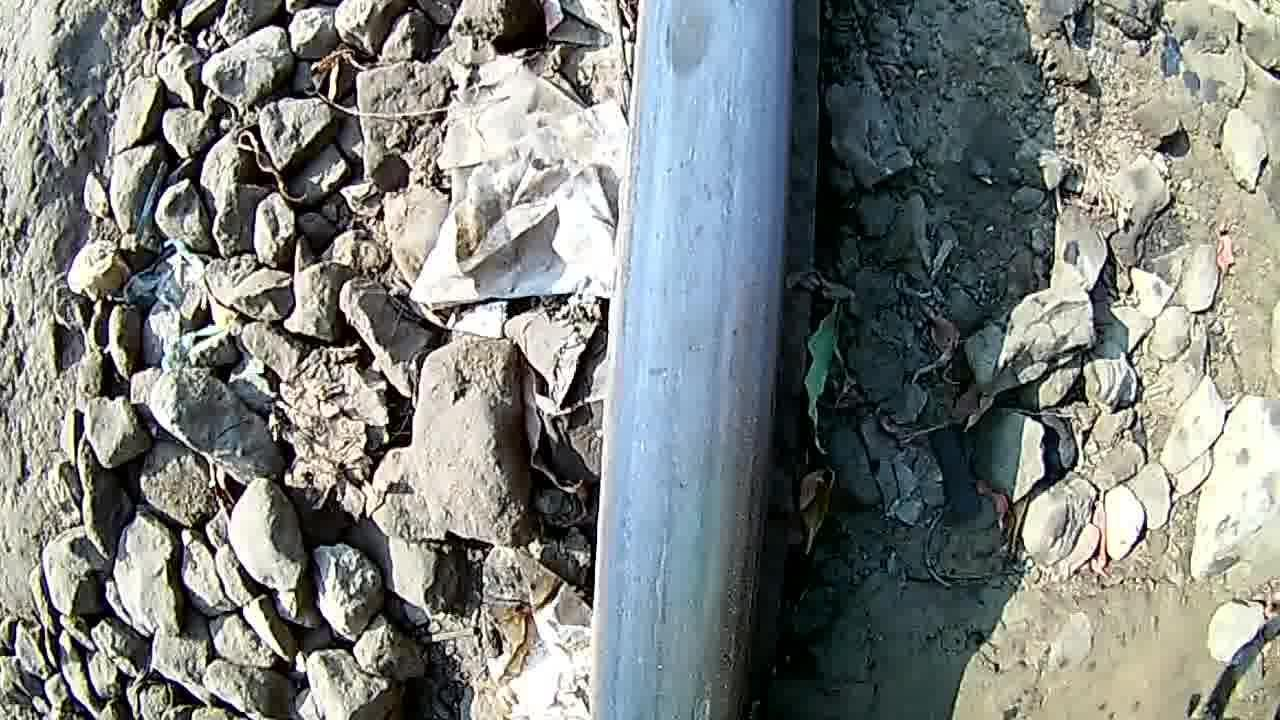crack: (627, 0, 818, 202)
